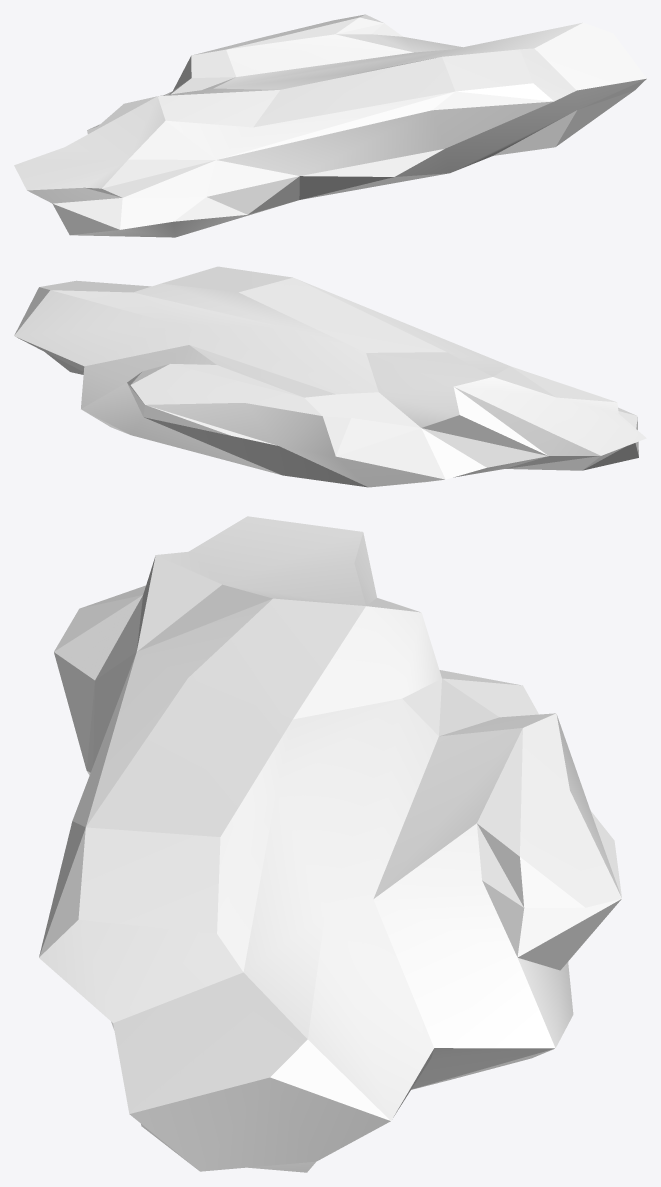
File: ground.rock5.glb
The picture shows the model from 3 angles, top to bottom: view 1: azimuth 30°, elevation 25°; view 2: azimuth 150°, elevation 25°; view 3: azimuth 270°, elevation 25°; orthographic projection. The views are drawn at different scales.
Visible parts, largest first — view 1: rock5; view 2: rock5; view 3: rock5.
Part boxes in pixels (left/top/right/bottom): rock5: left=14, top=14, right=646, bottom=237; rock5: left=14, top=266, right=646, bottom=487; rock5: left=39, top=516, right=621, bottom=1172.
Size of the model in its own units: 0.78 by 0.1305 by 0.3303.
Materials: 1 (1 with a texture image).
